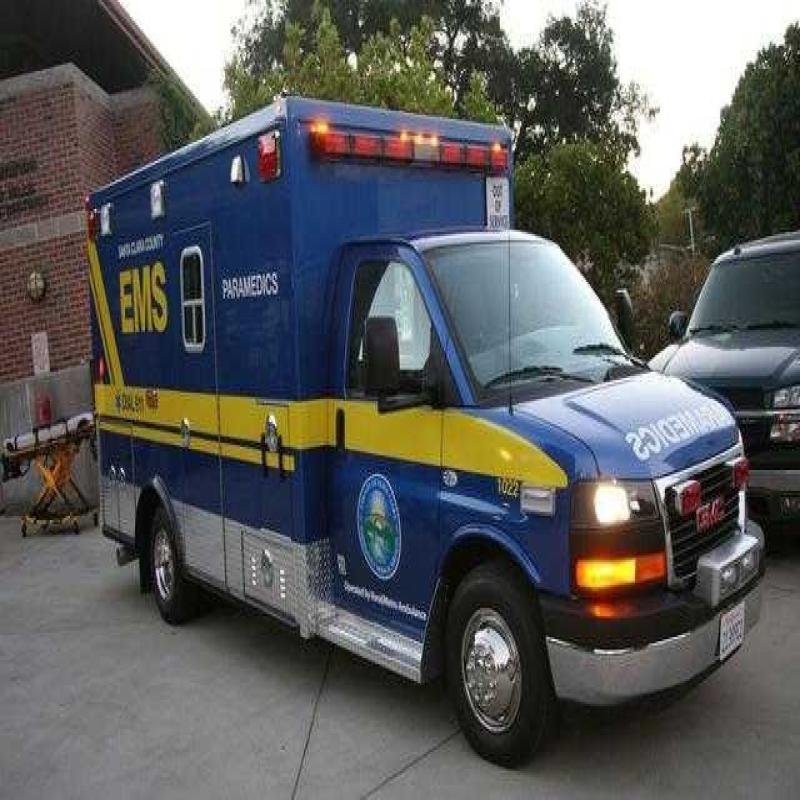AmbulanceSiren: (303, 105, 523, 187)
